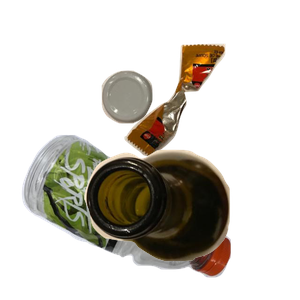glass: (82, 147, 300, 300)
metal: (99, 68, 244, 184)
plastic: (19, 132, 242, 300)
trash: (122, 41, 300, 190)
